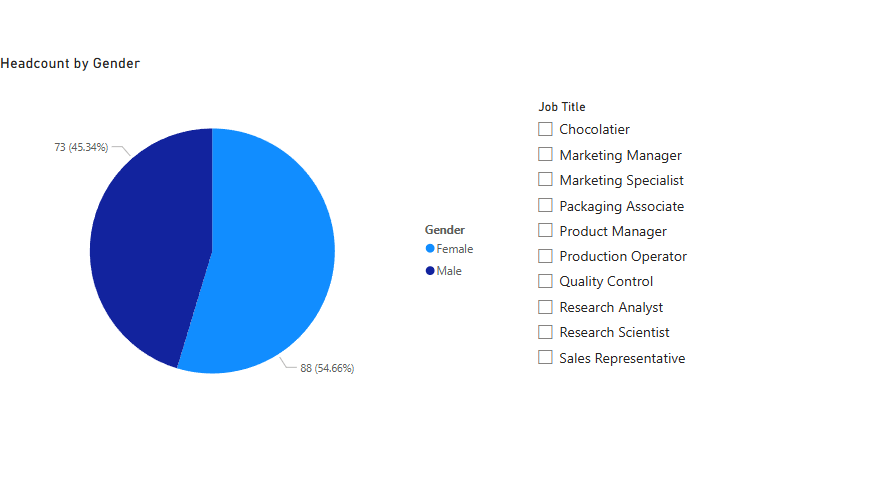

What the dashboard file says about the page in this screenshot:
{"tool":"powerbi","page":{"name":"Q2","canvas":[1280,720],"ordinal":1},"visuals":[{"type":"pieChart","fields":{"Category":["data.Gender"],"Y":["data.Headcount"]},"box":[0,165.7,561.4,431.4],"z":0},{"type":"slicer","fields":{"Values":["data.Job Title"]},"box":[607.1,212.9,377.1,338.6],"z":1000}]}

Visuals, with their boxes in screenshot pixels (x1, y1, x2, y2), scaled from the page's 1280x720 canvas onto the 874x489 screenshot:
pieChart - data.Gender x data.Headcount: l=0, t=113, r=383, b=406
slicer - data.Job Title: l=415, t=145, r=672, b=375
